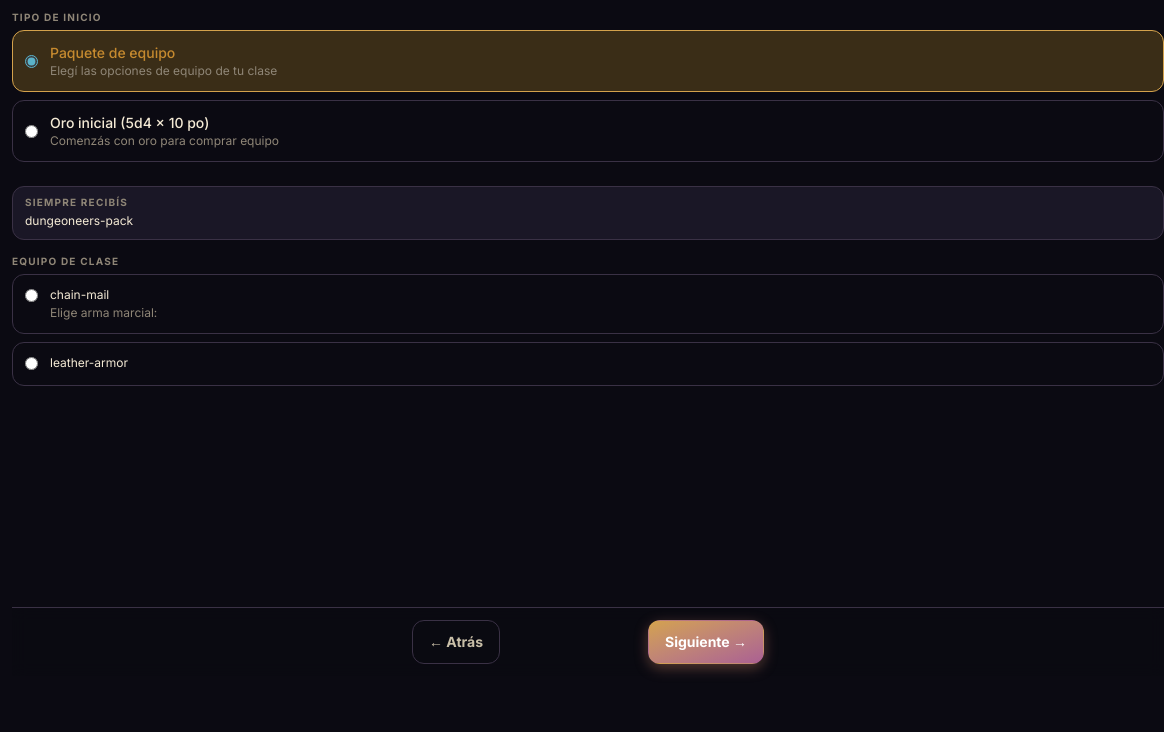
Test: EquipmentPicker — gold field validation (REQ-SEQUIP-06) › shows error when trying to continue on gold path with empty gold value
Note: Switch to gold path
Click the radio button showing "gold": coordinates (32, 131) [25,124,38,138]
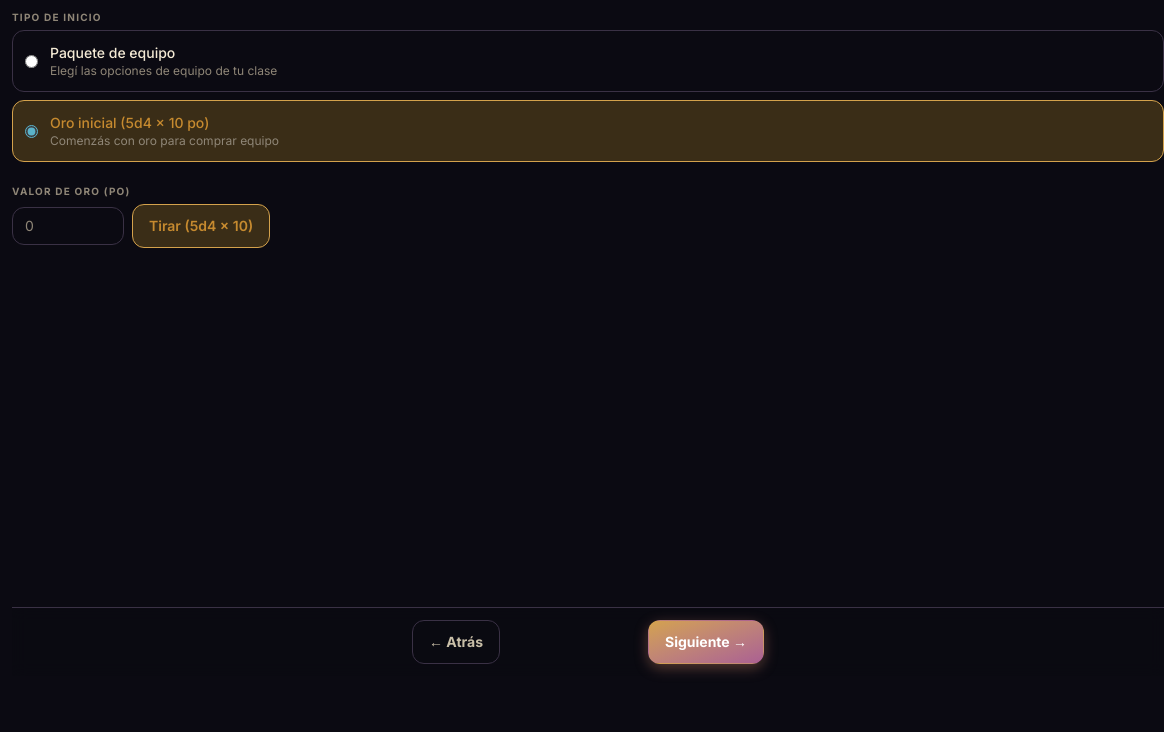
Note: Attempt to continue without entering gold
Click the button "Siguiente →": coordinates (706, 642) [648,620,764,664]
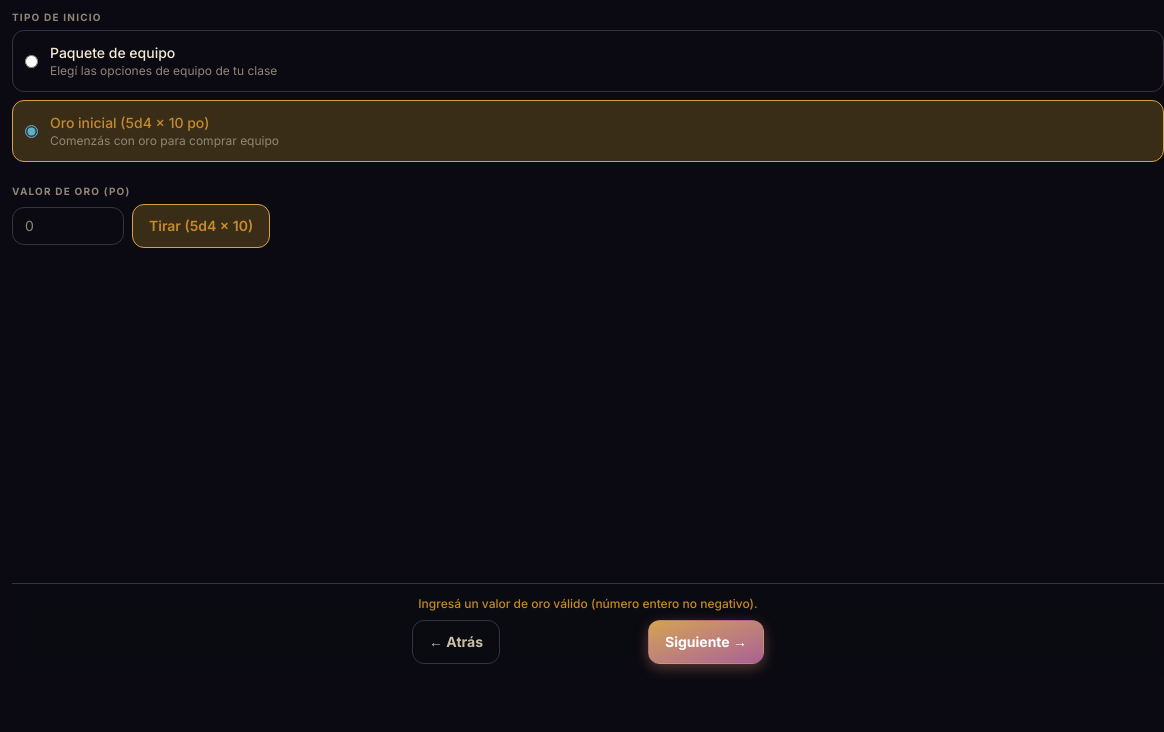
Check: the message "Ingresá un valor de oro válido (número entero no negativo)." is shown, box [412,596,764,612]
